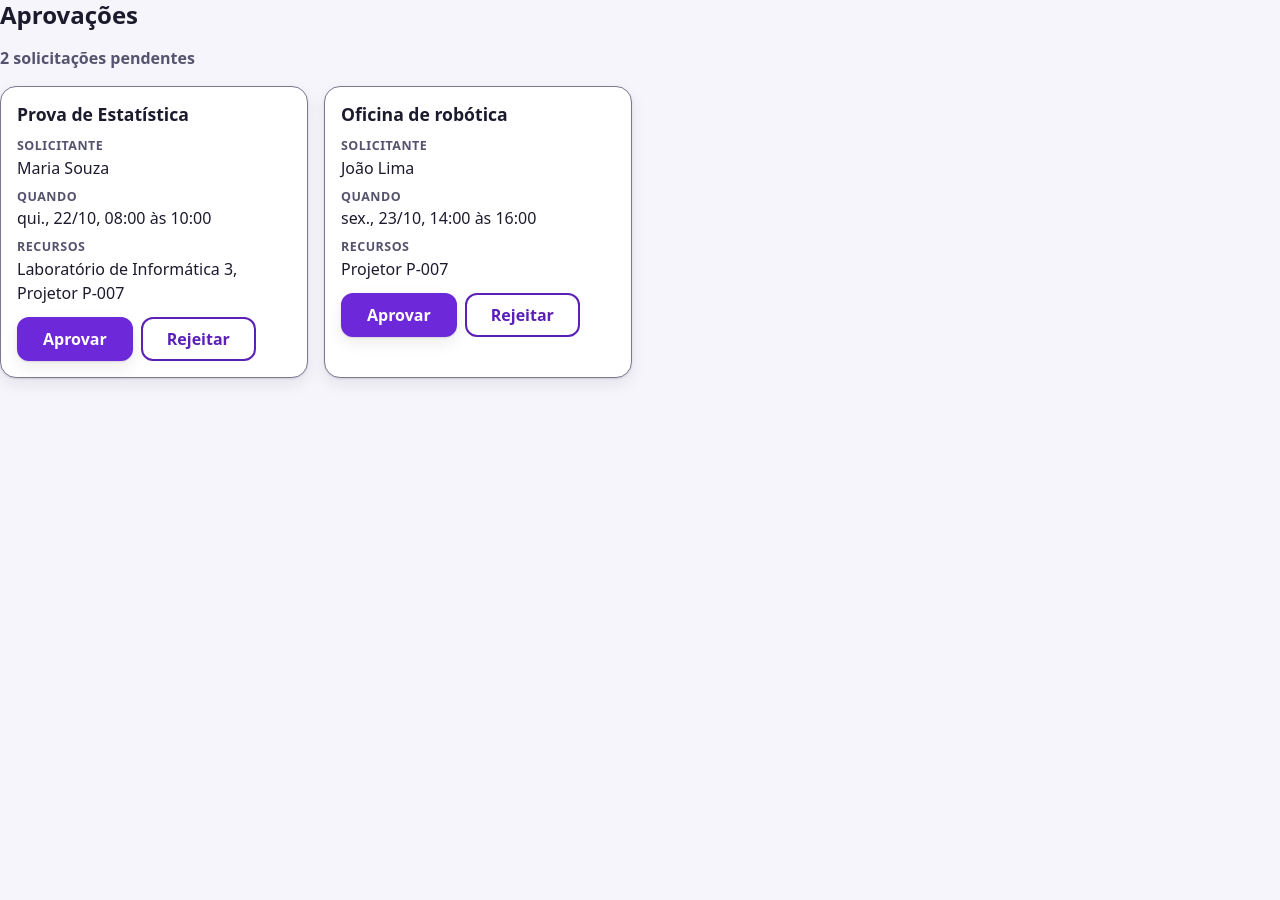
Test case: PaginaDeAprovacoes: diálogo de confirmação da aprovação › só abre o diálogo da solicitação escolhida
Click the button "Aprovar" below "sex., 23/10, 14:00 às 16:00": (399, 315) top-left (341, 293), bottom-right (457, 337)
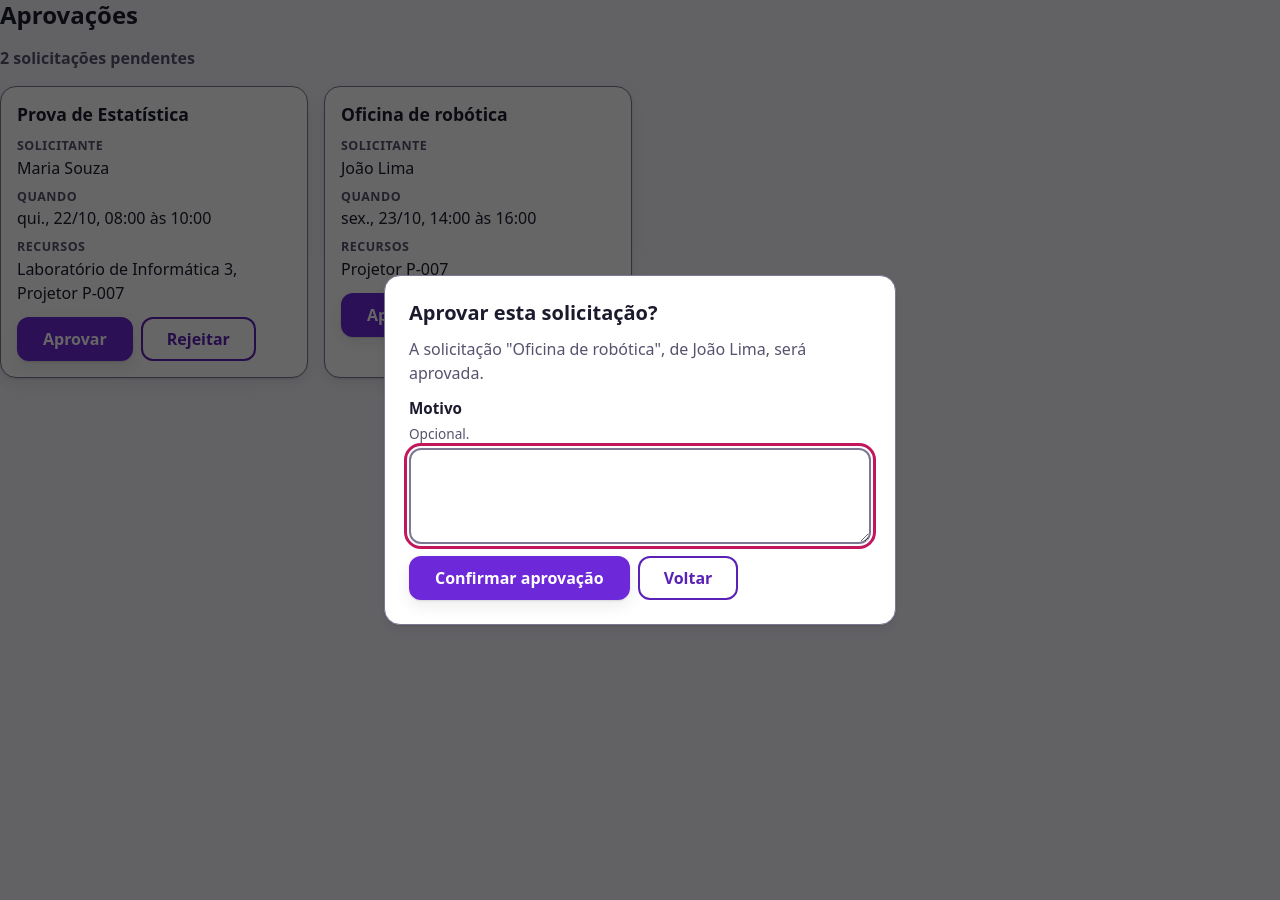
Check: the number of dialogs is 1, box top-left (384, 275), bottom-right (896, 625)
